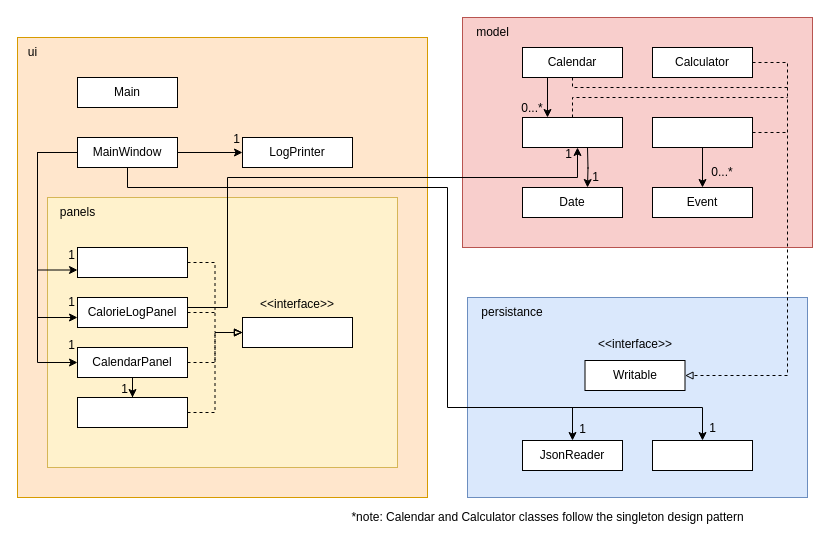
This 830x550 diagram has some shape labels left out. The centre of each missing label's shape, as x and y in pixels:
"CalculatorPanel" belongs at pixel 132 262.
"CalorieLog" belongs at pixel 572 132.
"EventLog" belongs at pixel 702 132.
"JsonWriter" belongs at pixel 702 455.
"PanelSetup" belongs at pixel 297 332.
"PastLogPanel" belongs at pixel 132 412.
